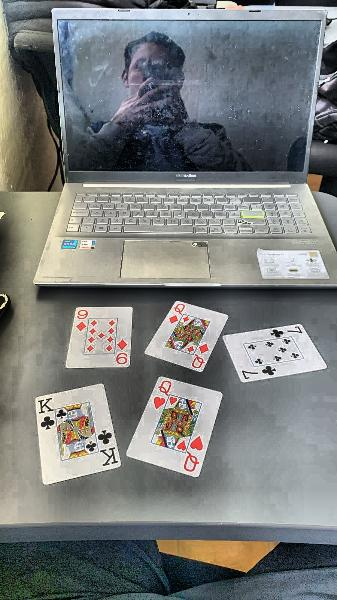7T: (239, 365, 279, 383), (270, 324, 304, 339)
9D: (115, 337, 130, 366), (75, 306, 90, 334)
KT: (96, 427, 123, 467), (36, 396, 57, 433)
QC: (180, 434, 207, 474), (150, 378, 173, 411)
QD: (190, 342, 212, 370), (166, 301, 186, 325)
